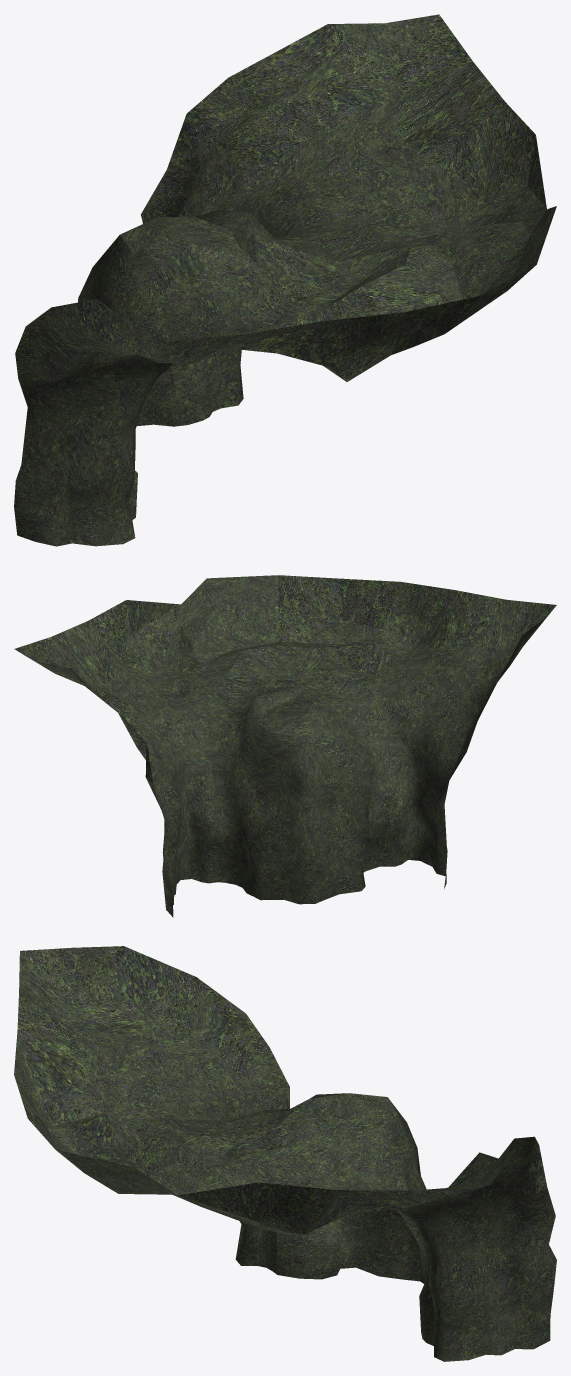
The model's file is cliff_coner_in_00.fbx.
The picture shows the model from 3 angles, top to bottom: view 1: azimuth 30°, elevation 25°; view 2: azimuth 150°, elevation 25°; view 3: azimuth 270°, elevation 25°; orthographic projection. The views are drawn at different scales.
Parts seen in each view (by area): view 1: cliff_coner_in_00; view 2: cliff_coner_in_00; view 3: cliff_coner_in_00.
Boxes of the visible parts, left/top/right/bottom form: cliff_coner_in_00: left=14, top=14, right=556, bottom=546; cliff_coner_in_00: left=14, top=575, right=556, bottom=917; cliff_coner_in_00: left=14, top=946, right=556, bottom=1361.
Size of the model in its own units: 140 by 76.09 by 135.
